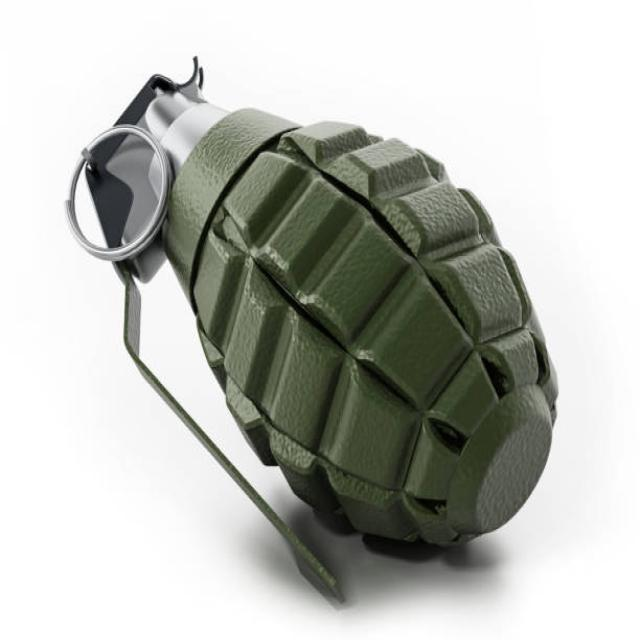grenade: (58, 49, 566, 613)
